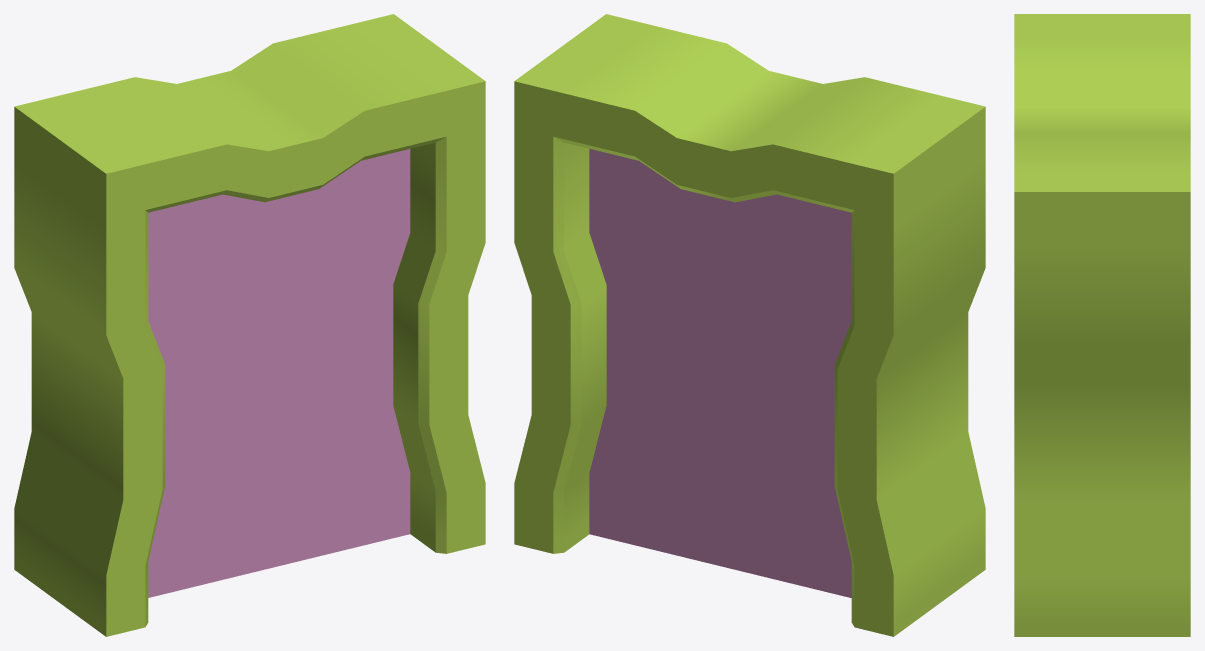
Rendered from normal_door_separate.FBX.
3 views of the same model, side by side, from view 1: azimuth 30°, elevation 25°; view 2: azimuth 150°, elevation 25°; view 3: azimuth 270°, elevation 25° (orthographic). The views are drawn at different scales.
Parts seen in each view (by area): view 1: Box002, Object003, Object005, Object004; view 2: Box002, Object003, Object005, Object004; view 3: Box002.
Boxes of the visible parts, x1=… form: Box002: x1=14, y1=14, x2=485, y2=636; Object003: x1=148, y1=149, x2=410, y2=369; Object005: x1=266, y1=287, x2=410, y2=568; Object004: x1=148, y1=353, x2=266, y2=597; Box002: x1=514, y1=14, x2=985, y2=636; Object003: x1=589, y1=149, x2=851, y2=370; Object005: x1=589, y1=287, x2=732, y2=569; Object004: x1=733, y1=353, x2=851, y2=597; Box002: x1=1014, y1=14, x2=1190, y2=636.
Bounding box in the file's own units: 16500 × 19242 × 6922.
